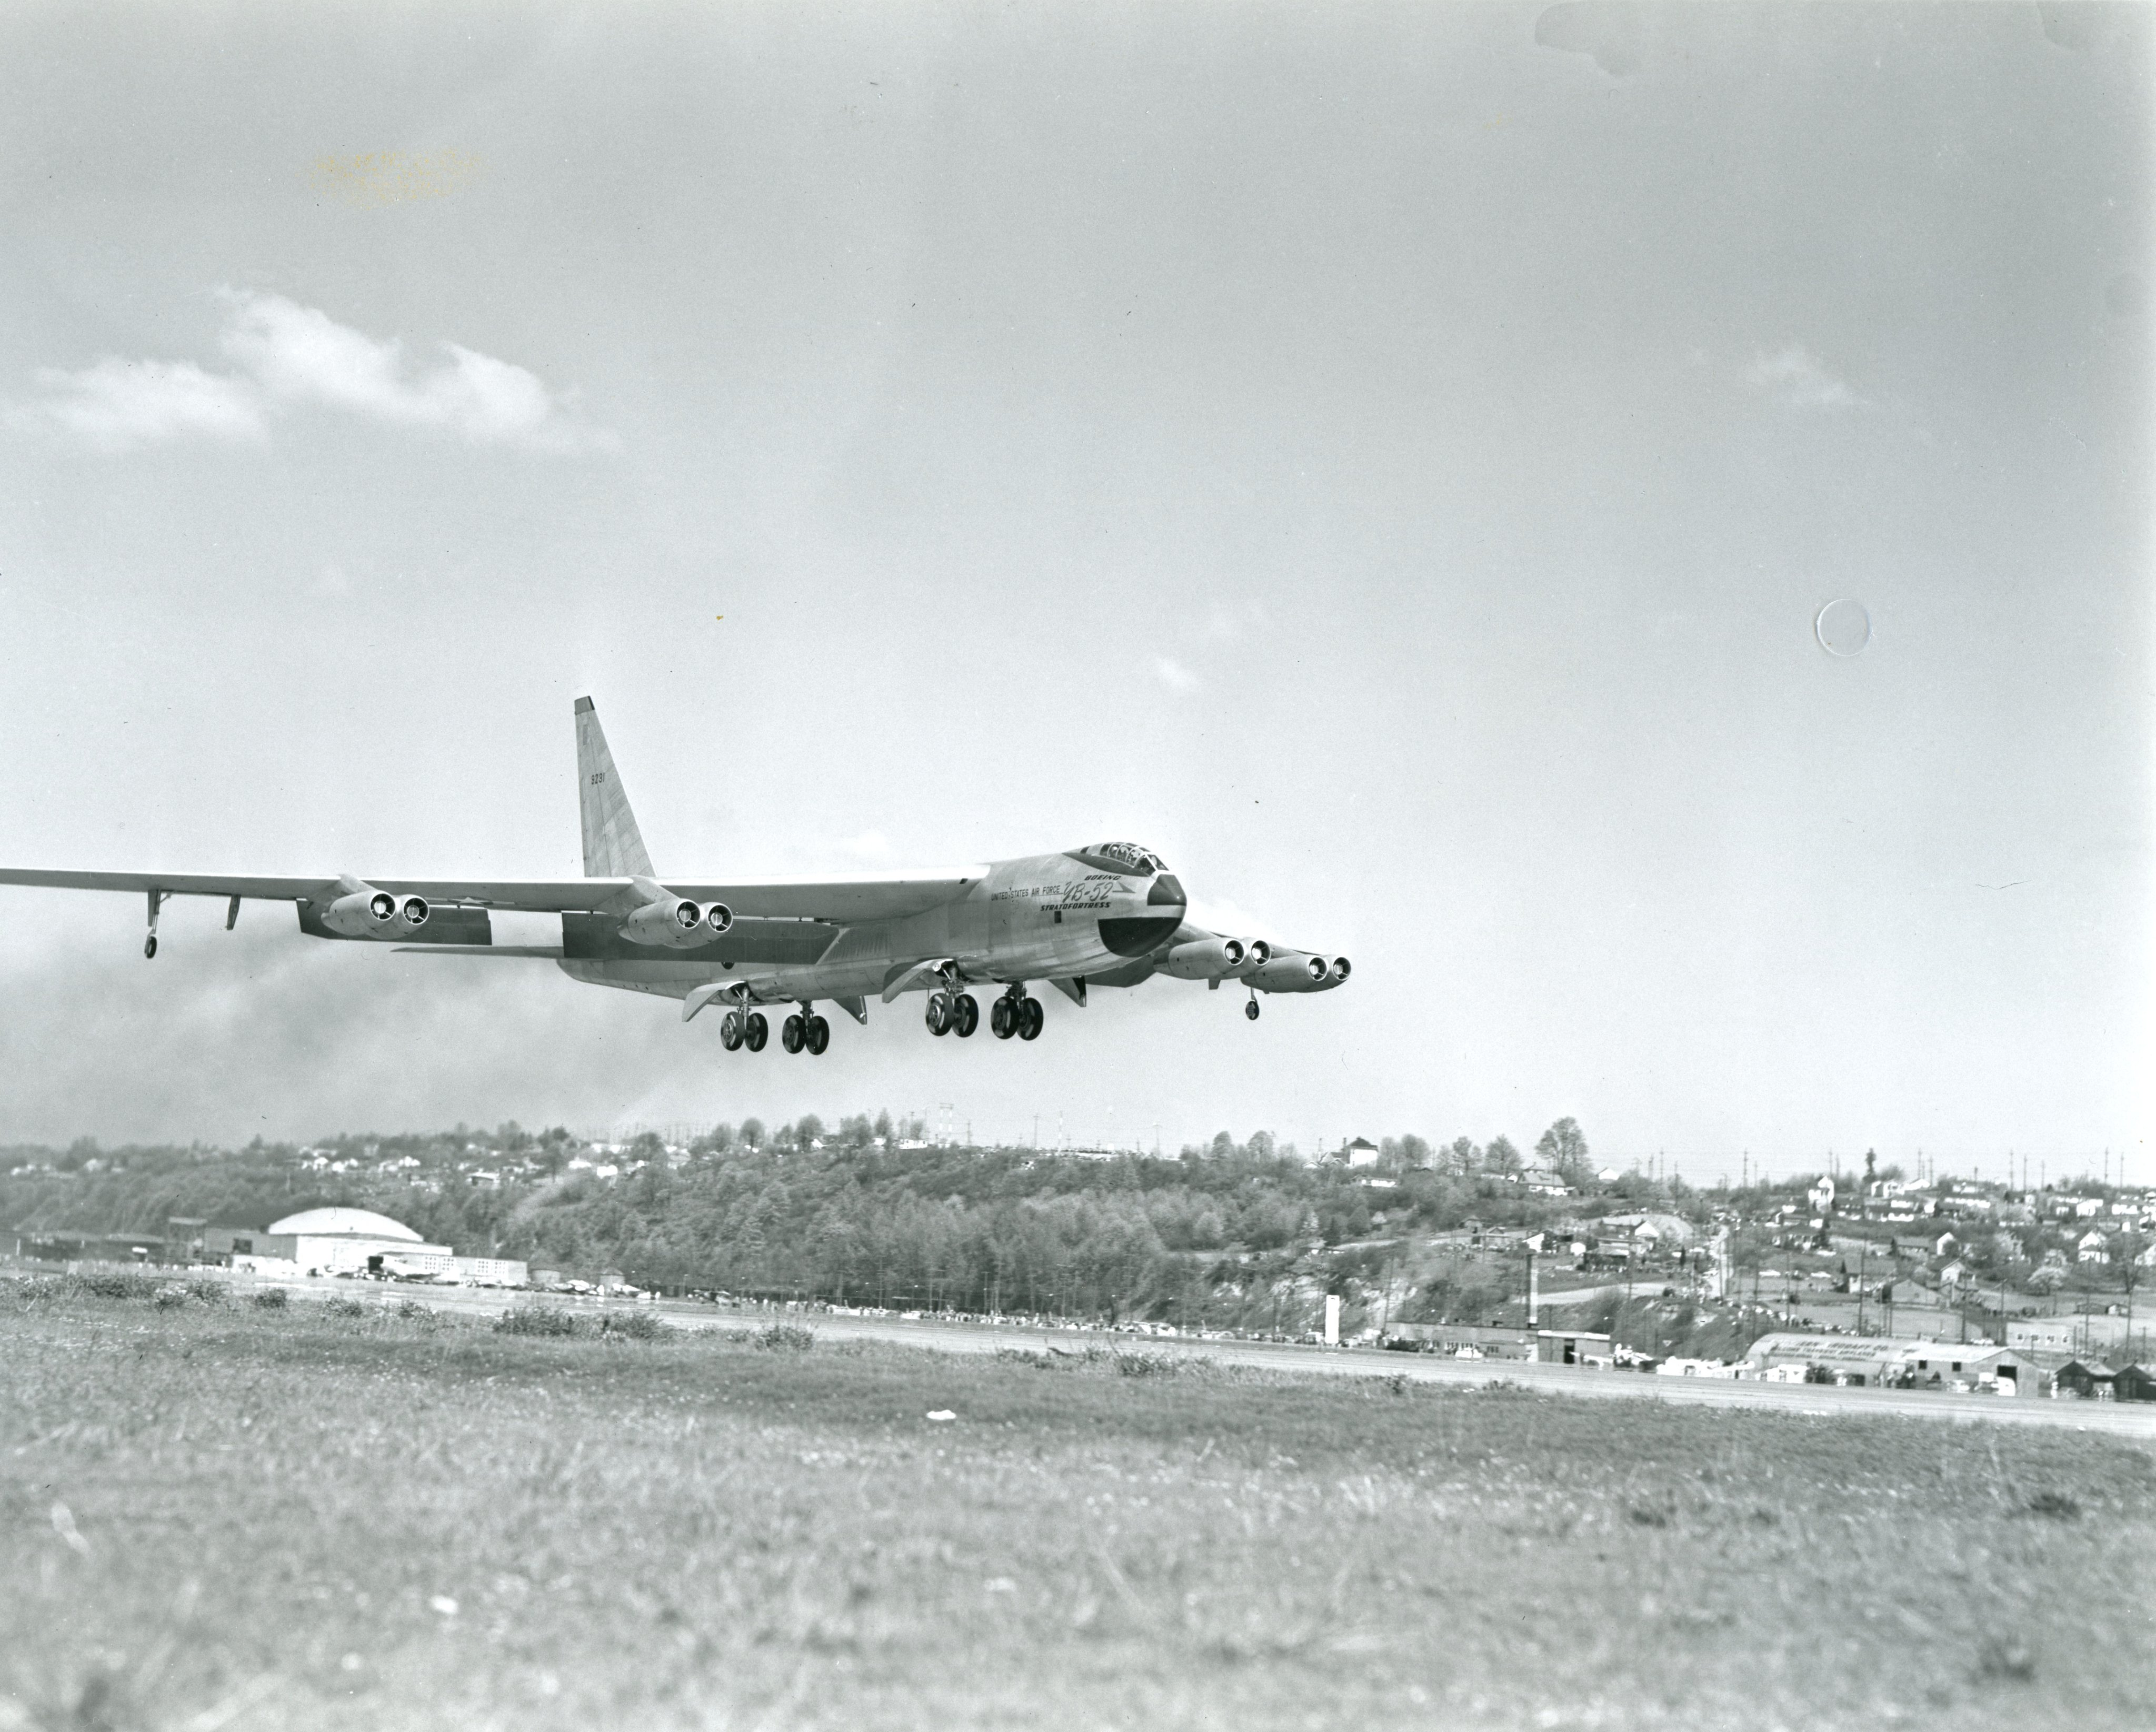B52: (0, 695, 1352, 1055)
